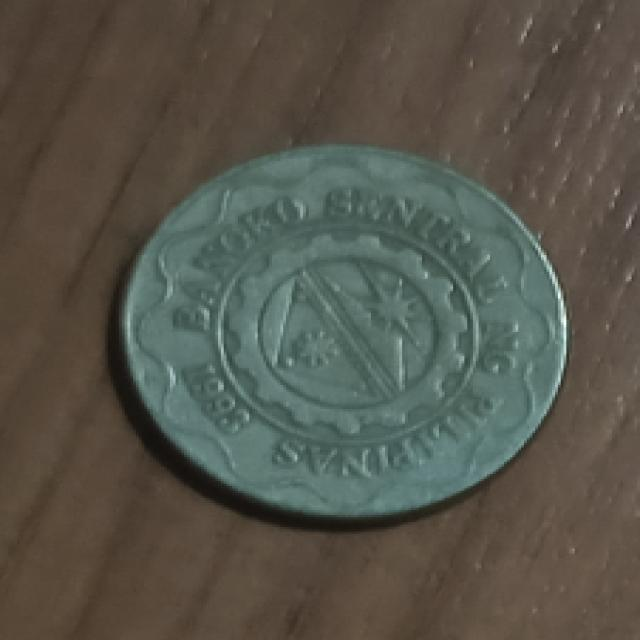5_peso: (122, 147, 561, 517)
